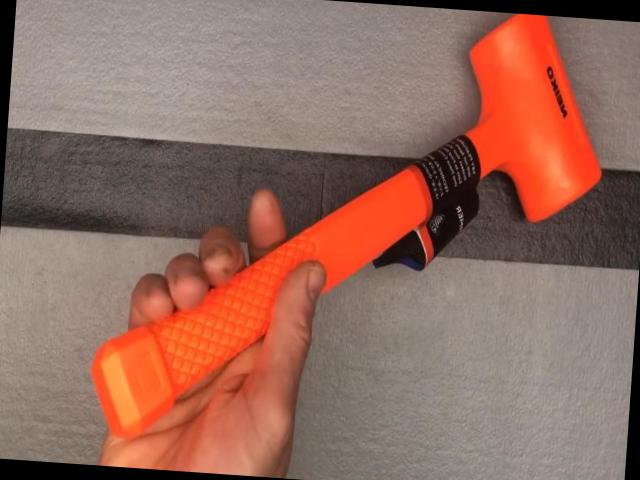hammer: (83, 0, 610, 474)
